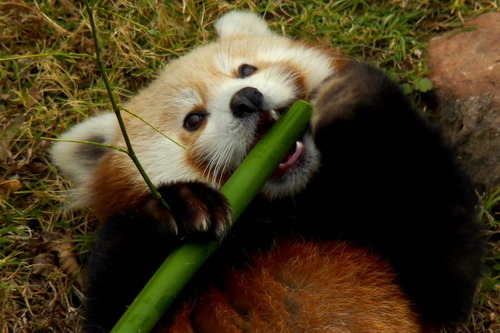red_panda: (52, 12, 475, 333)
